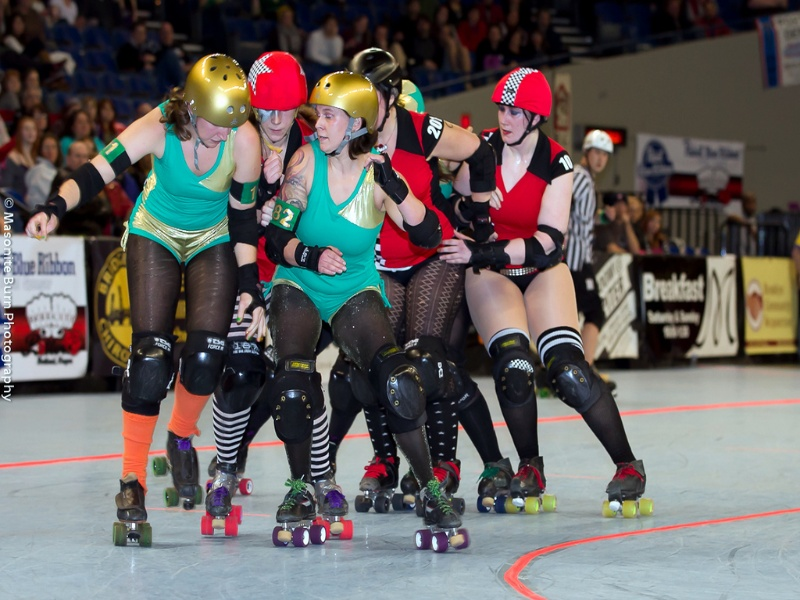Baret: (185, 53, 252, 126), (310, 69, 381, 126), (491, 67, 551, 122)
